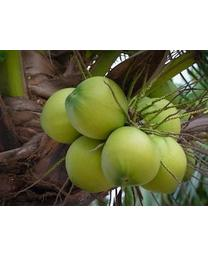coconut: (65, 76, 130, 141), (101, 126, 161, 186), (66, 134, 127, 193), (40, 86, 87, 145), (142, 133, 187, 194), (130, 94, 180, 136)
